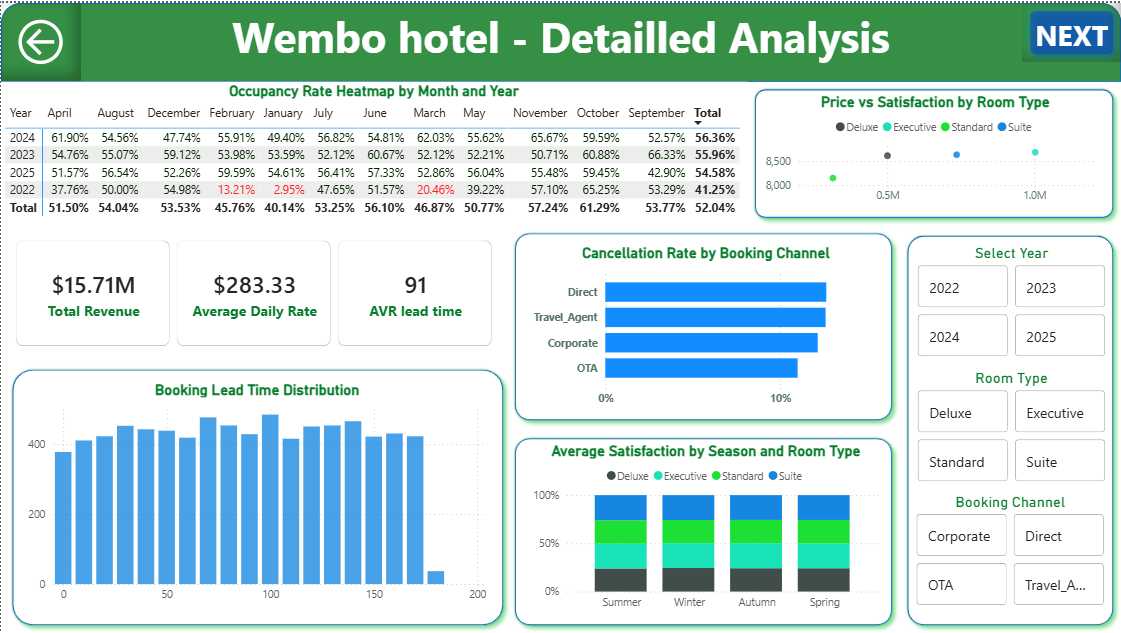

This screenshot's page, from the dashboard's own definition file:
{"tool":"powerbi","page":{"name":"Detailed Analysis","canvas":[1280,720],"ordinal":2},"visuals":[{"type":"shape","box":[0,0,1280.3,90],"z":0},{"type":"shape","box":[4.3,410,578.6,310],"z":1000},{"type":"shape","box":[578.6,254.3,448.6,231.4],"z":2000},{"type":"shape","box":[578.6,488.6,448.6,231.4],"z":3000},{"type":"shape","box":[852.9,90,427.1,164.3],"z":4000},{"type":"textbox","box":[0,0,1280,78.8],"z":5000},{"type":"pivotTable","title":"Occupancy Rate Heatmap by Month and Year","fields":{"Rows":["Calendar.Year"],"Columns":["Calendar.MonthName"],"Values":["hotel_bookings_records.Occupancy Rate"]},"box":[0,90,852.5,165],"z":6000},{"type":"scatterChart","title":"Price vs Satisfaction by Room Type","fields":{"X":["Sum(hotel_bookings_records.price_per_night)"],"Y":["Sum(hotel_bookings_records.satisfaction_score)"],"Series":["hotel_bookings_records.room_type"],"Size":["hotel_bookings_records.Confirmed Reservations"]},"box":[868.6,102.9,398.6,135.7],"z":7000},{"type":"clusteredBarChart","title":"Cancellation Rate by Booking Channel","fields":{"Category":["hotel_bookings_records.booking_channel"],"Y":["hotel_bookings_records.Cancellation Rate"]},"box":[602.9,275.7,405.7,194.3],"z":8000},{"type":"hundredPercentStackedColumnChart","title":"Average Satisfaction by Season and Room Type","fields":{"Series":["hotel_bookings_records.room_type"],"Y":["hotel_bookings_records.Avg Satisfaction"],"Category":["hotel_bookings_records.season"]},"box":[602.9,501.4,405.7,201.4],"z":9000},{"type":"columnChart","title":"Booking Lead Time Distribution","fields":{"Category":["hotel_bookings_records.lead_time_days (bins)"],"Y":["hotel_bookings_records.Confirmed Reservations"]},"box":[25.7,431.4,534.3,262.9],"z":10000},{"type":"shape","box":[1027.1,257.1,252.9,462.9],"z":11000},{"type":"advancedSlicerVisual","title":"Select Year","fields":{"Values":["Calendar.Year"]},"box":[1042.9,275.7,224.3,134.3],"z":12000},{"type":"advancedSlicerVisual","title":"Room Type","fields":{"Values":["hotel_bookings_records.room_type"]},"box":[1042.9,418.6,224.3,134.3],"z":13000},{"type":"advancedSlicerVisual","title":"Booking Channel","fields":{"Values":["hotel_bookings_records.booking_channel"]},"box":[1041.4,560,224.3,134.3],"z":14000},{"type":"cardVisual","fields":{"Data":["hotel_bookings_records.Total Revenue","hotel_bookings_records.RevPAR","hotel_bookings_records.Average Daily Rate"]},"box":[0,254.3,578.6,155.7],"z":15000},{"type":"actionButton","box":[1166.8,0,113.2,67.2],"z":15001},{"type":"actionButton","box":[0,0,92.1,89.6],"z":15002}]}

Visuals, with their boxes in screenshot pixels (x1, y1, x2, y2), scaled from the page's 1280x720 canvas onto the 1121x633 screenshot:
shape: left=0, top=0, right=1120, bottom=79
shape: left=4, top=360, right=510, bottom=632
shape: left=507, top=224, right=900, bottom=427
shape: left=507, top=430, right=900, bottom=632
shape: left=747, top=79, right=1120, bottom=224
textbox: left=0, top=0, right=1120, bottom=69
"Occupancy Rate Heatmap by Month and Year" pivotTable: left=0, top=79, right=747, bottom=224
"Price vs Satisfaction by Room Type" scatterChart: left=761, top=90, right=1110, bottom=210
"Cancellation Rate by Booking Channel" clusteredBarChart: left=528, top=242, right=883, bottom=413
"Average Satisfaction by Season and Room Type" hundredPercentStackedColumnChart: left=528, top=441, right=883, bottom=618
"Booking Lead Time Distribution" columnChart: left=23, top=379, right=490, bottom=610
shape: left=900, top=226, right=1120, bottom=632
"Select Year" advancedSlicerVisual: left=913, top=242, right=1110, bottom=360
"Room Type" advancedSlicerVisual: left=913, top=368, right=1110, bottom=486
"Booking Channel" advancedSlicerVisual: left=912, top=492, right=1108, bottom=610
cardVisual - hotel_bookings_records.Total Revenue x hotel_bookings_records.RevPAR: left=0, top=224, right=507, bottom=360
actionButton: left=1022, top=0, right=1120, bottom=59
actionButton: left=0, top=0, right=81, bottom=79
